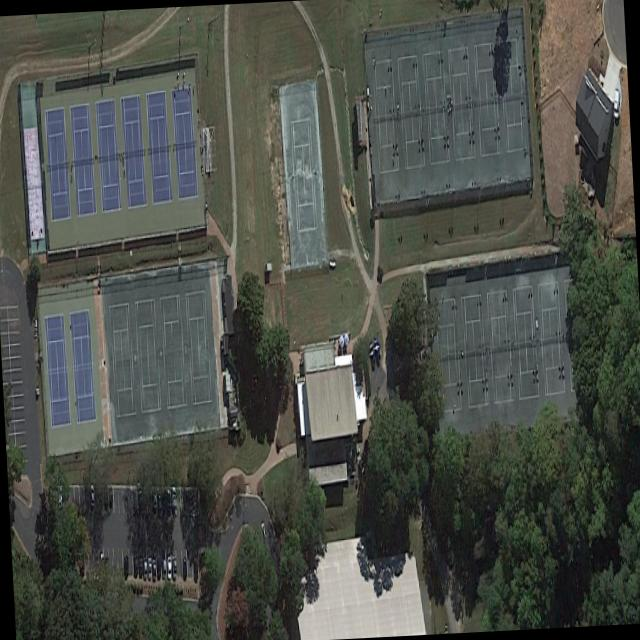small-vehicle: (613, 88, 620, 119), (373, 338, 381, 365), (368, 341, 376, 368), (137, 480, 143, 509), (166, 488, 172, 517), (193, 556, 199, 583), (156, 556, 162, 582), (157, 492, 163, 517), (152, 490, 158, 514), (167, 554, 172, 582), (103, 483, 108, 508), (161, 492, 166, 517), (172, 483, 176, 514), (182, 556, 187, 580), (161, 556, 166, 580), (90, 483, 95, 506), (172, 557, 177, 580), (152, 558, 157, 581), (134, 552, 138, 580), (124, 556, 129, 578), (108, 486, 113, 507), (148, 556, 152, 580), (139, 555, 143, 578), (144, 556, 147, 579)
